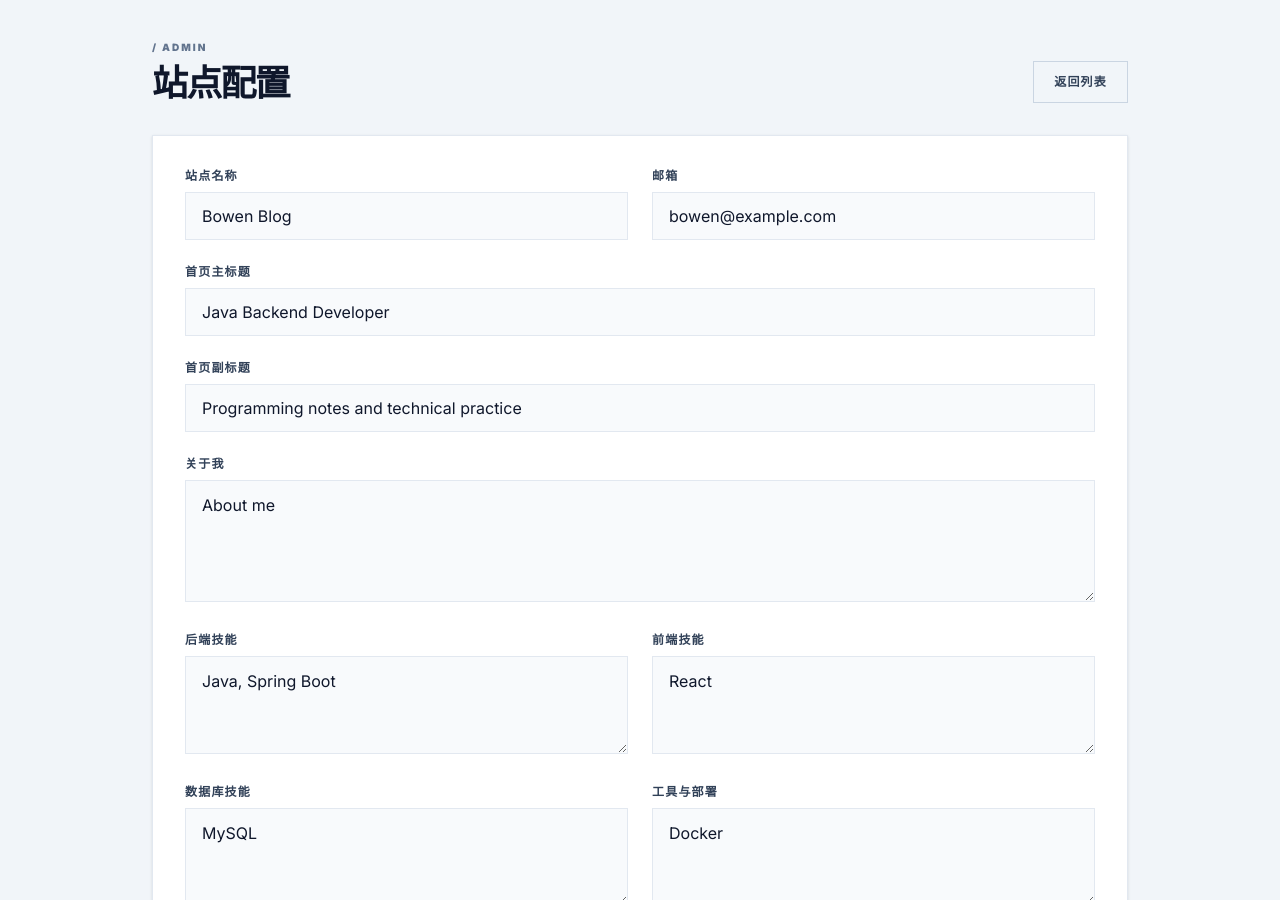
Test: AdminSiteConfig page › loads site config and updates it
Replace the text in the field labelled "站点名称" with "Bowen Blog Updated". click: (406, 216)
box: [185, 192, 628, 240]
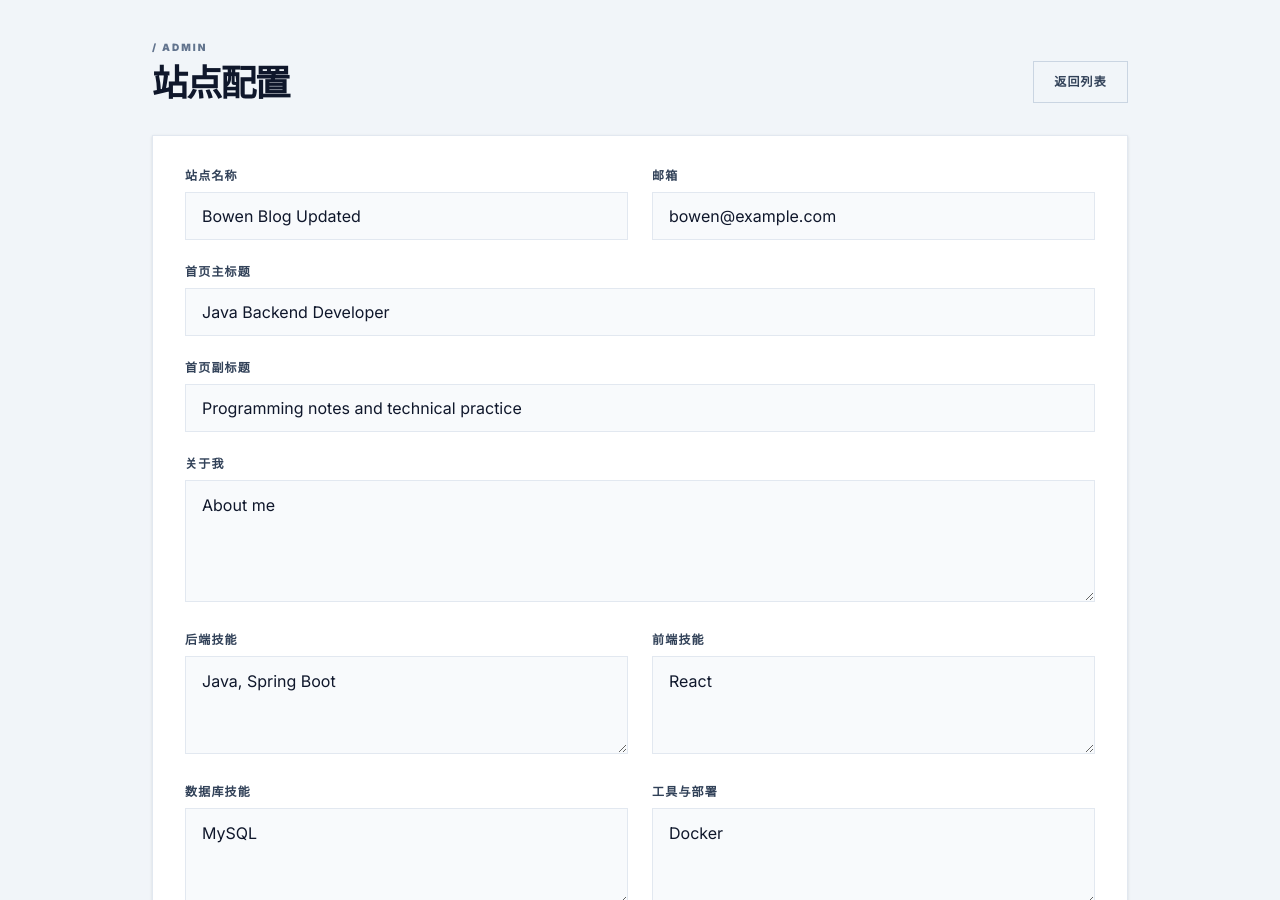
Replace the text in the text box labelled "关于我" with "Updated about me". click: (640, 541)
box: [185, 480, 1095, 602]
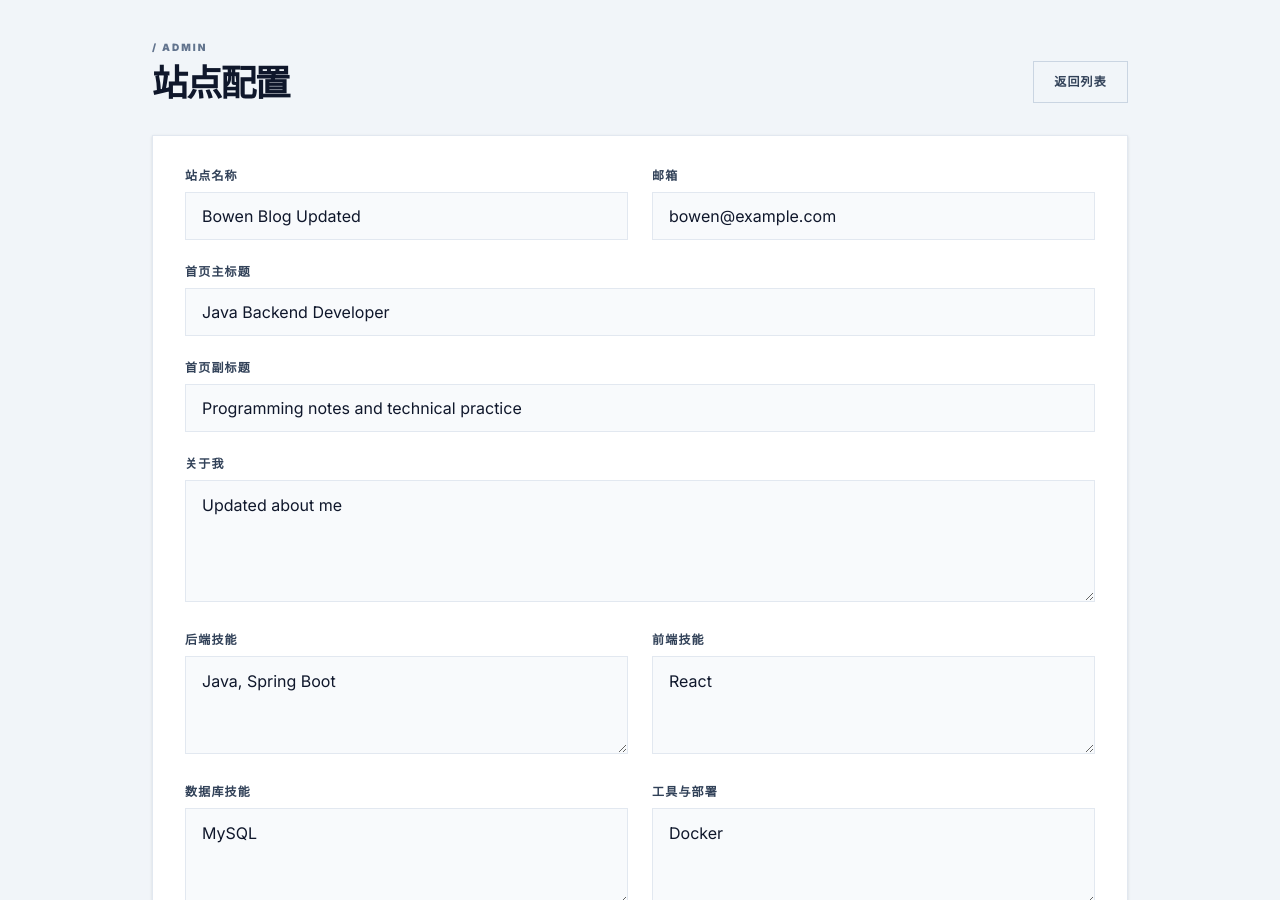
Replace the text in the field labelled "邮箱" with "updated@example.com". click: (874, 216)
box: [652, 192, 1095, 240]
(page scrolled)
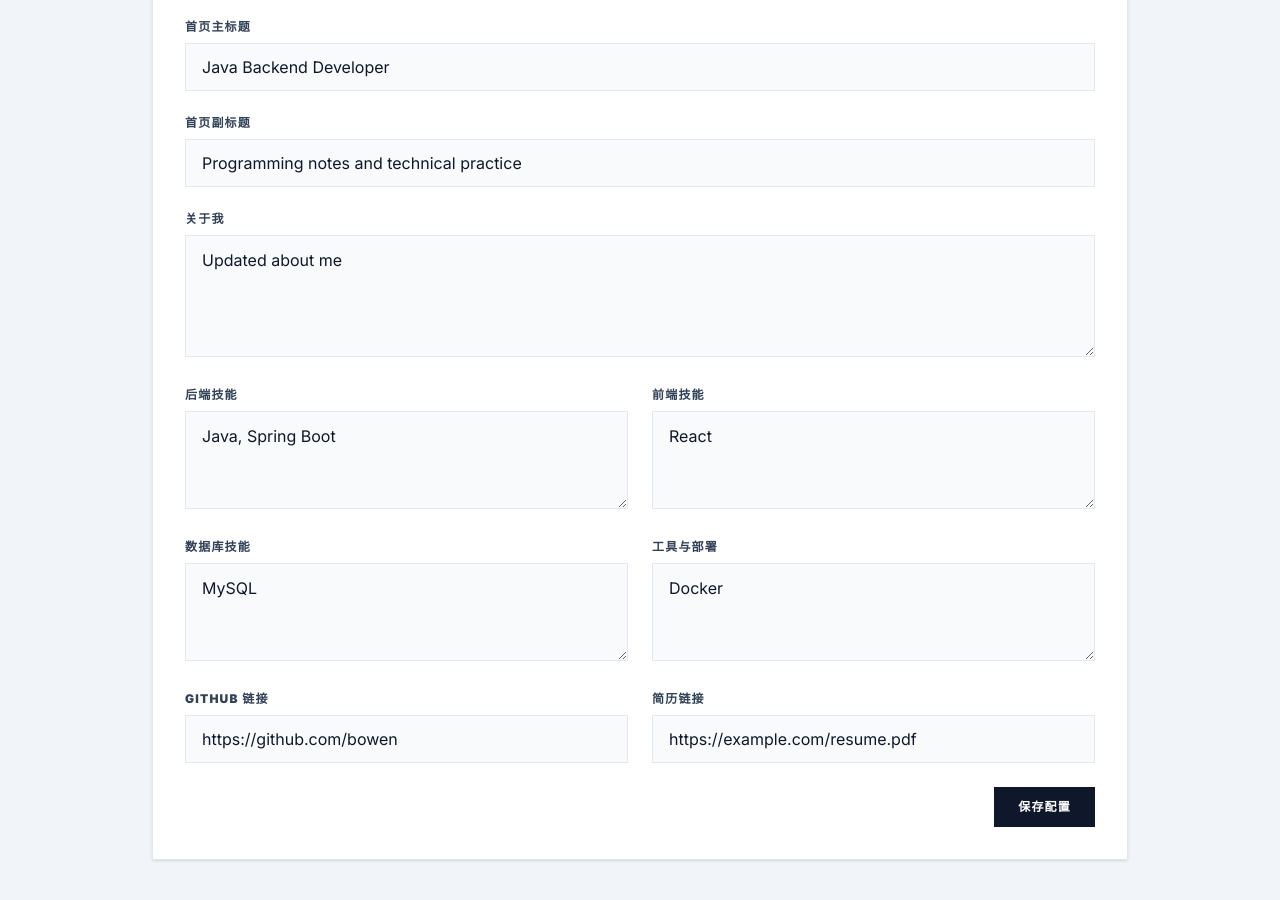
Replace the text in the field labelled "GitHub 链接" with "https://github.com/bowen-updated". click: (406, 739)
box: [185, 715, 628, 763]
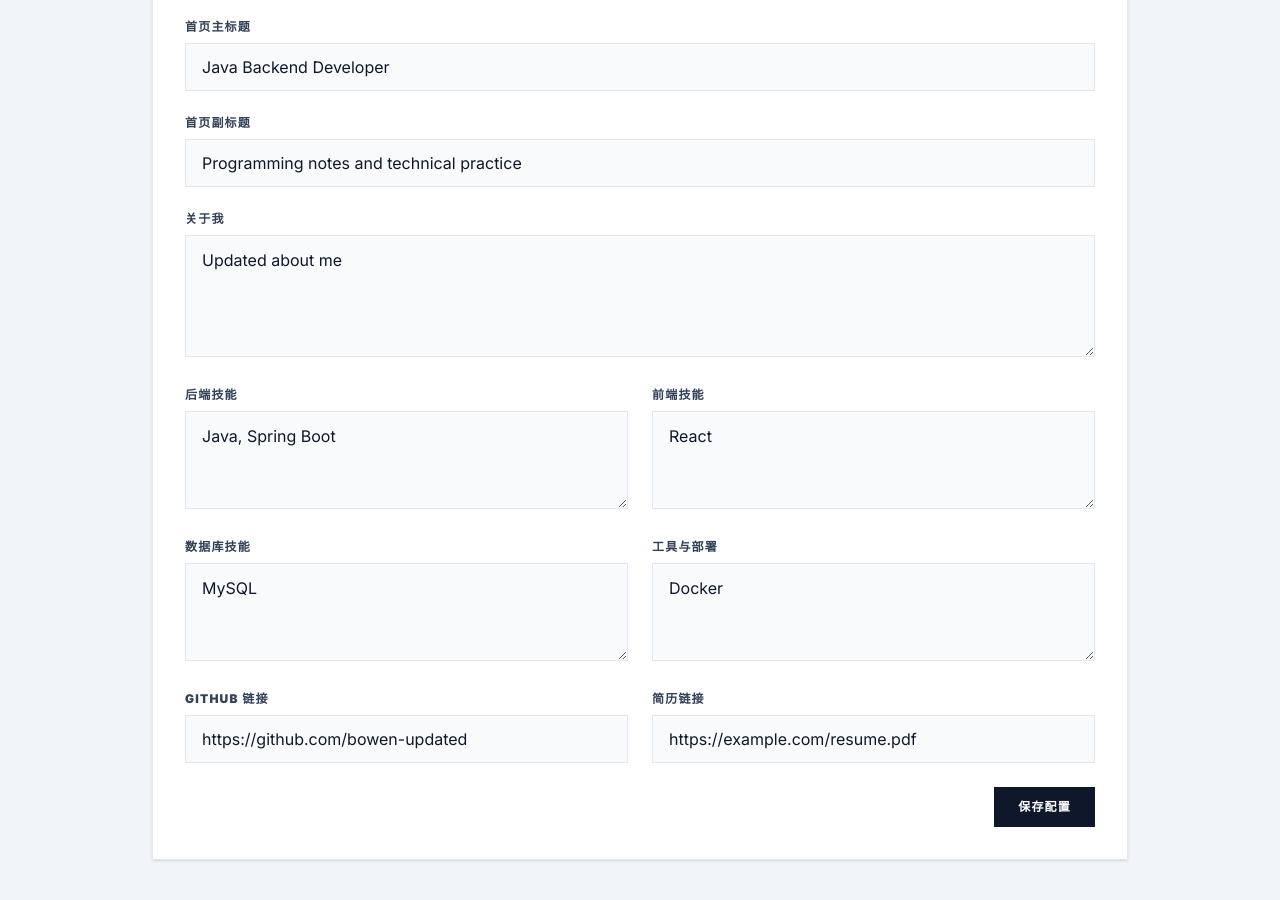
Replace the text in the field labelled "简历链接" with "https://example.com/resume-new.pdf". click: (874, 739)
box: [652, 715, 1095, 763]
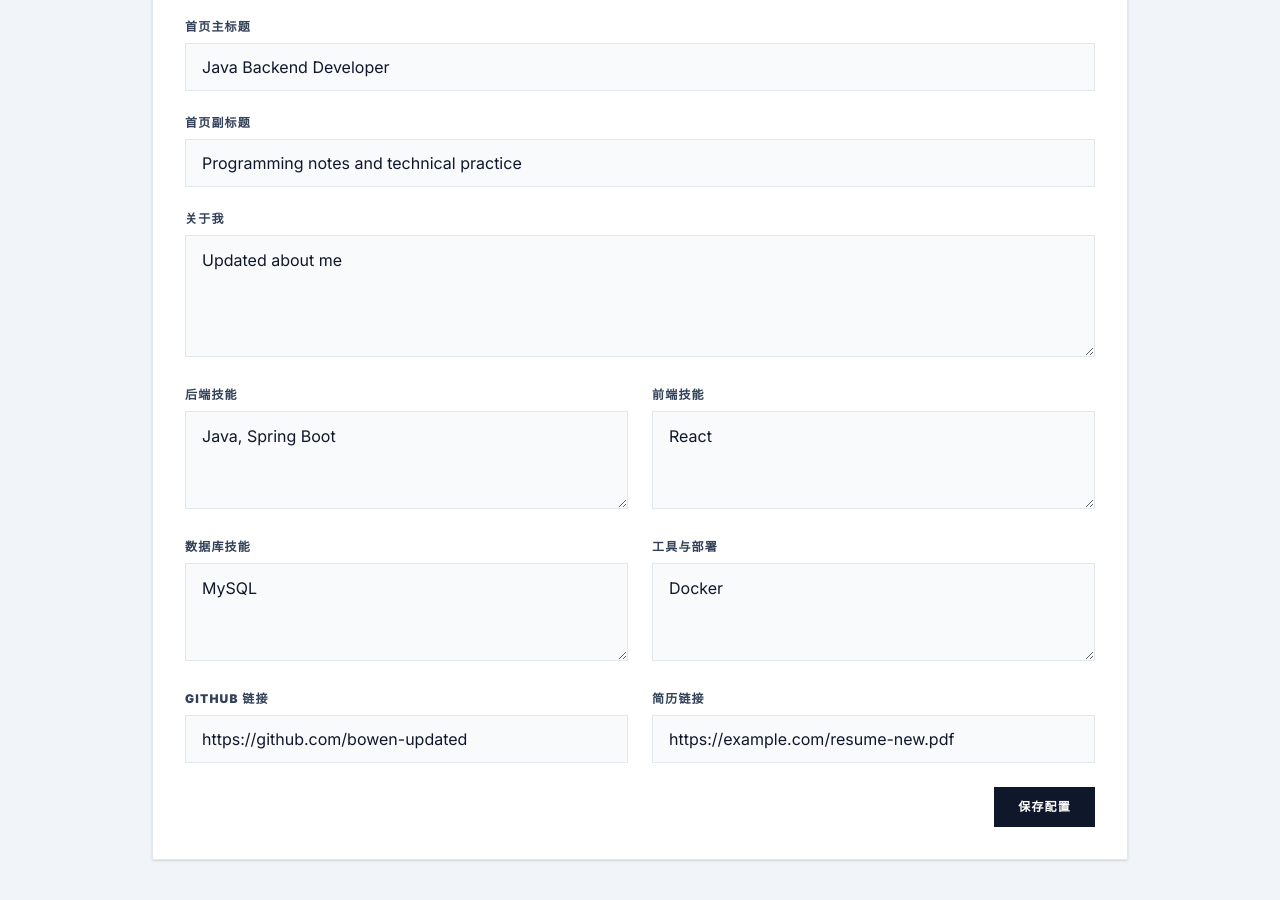
Click the button "保存配置". click: (1045, 807)
box: [994, 787, 1095, 827]
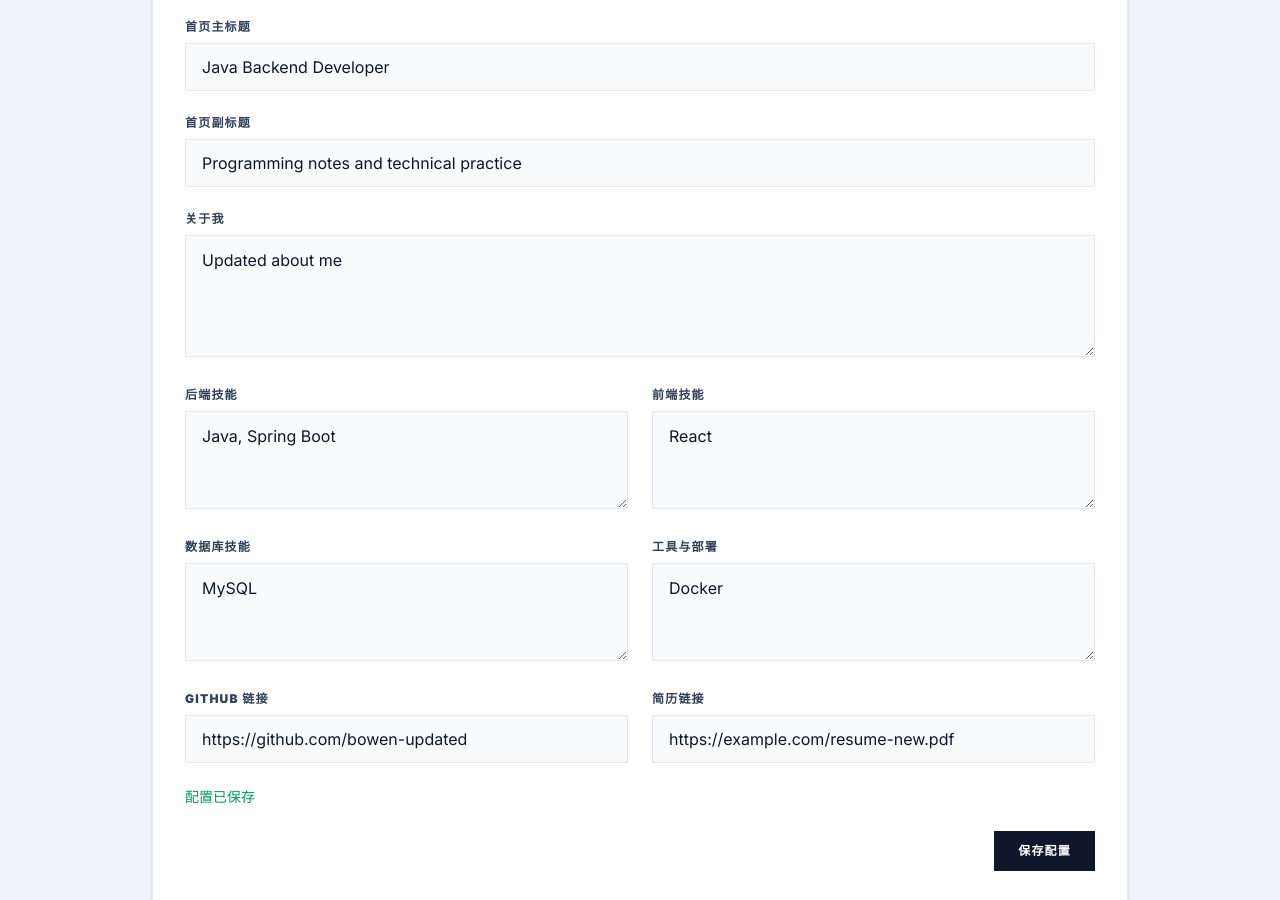
Check: the text "配置已保存" is shown, box [185, 788, 255, 805]
